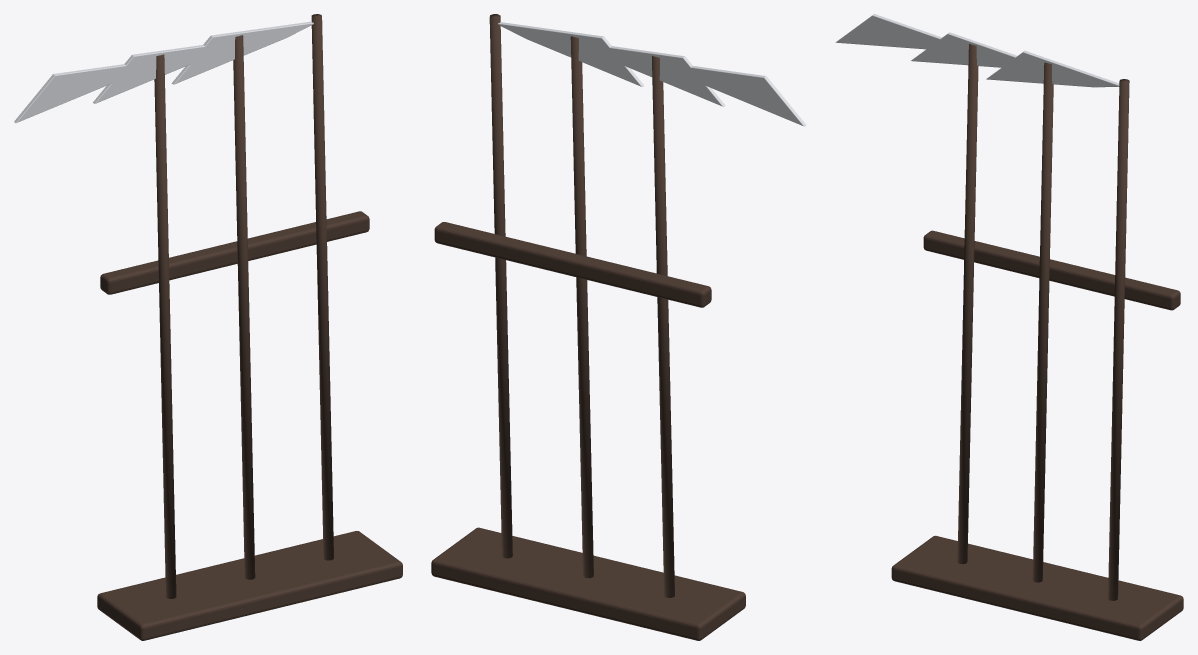
The model's file is rack_scythe_rack.glb.
The picture shows the model from 3 angles, left to right: view 1: azimuth 30°, elevation 25°; view 2: azimuth 150°, elevation 25°; view 3: azimuth 330°, elevation 25°; orthographic projection. The views are drawn at different scales.
Visible parts, largest first — view 1: GD_rack_scythe_rack__m0, GD_rack_scythe_rack__m1; view 2: GD_rack_scythe_rack__m0, GD_rack_scythe_rack__m1; view 3: GD_rack_scythe_rack__m0, GD_rack_scythe_rack__m1.
Boxes of the visible parts, x1,y1,x2,y2 form: GD_rack_scythe_rack__m0: [97, 14, 402, 640]; GD_rack_scythe_rack__m1: [14, 21, 313, 122]; GD_rack_scythe_rack__m0: [431, 14, 745, 640]; GD_rack_scythe_rack__m1: [498, 22, 806, 126]; GD_rack_scythe_rack__m0: [891, 44, 1183, 640]; GD_rack_scythe_rack__m1: [835, 14, 1119, 87].
Size of the model in its own units: 1.35 by 2.02 by 0.3.
